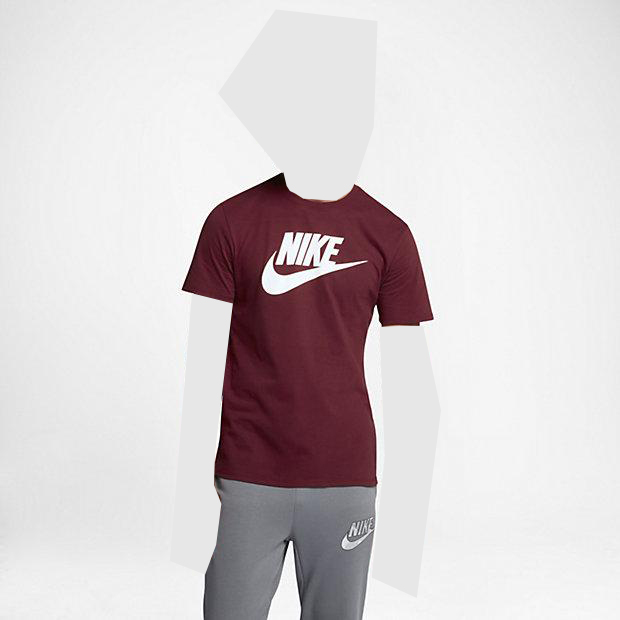teeshirt: (178, 175, 442, 496)
